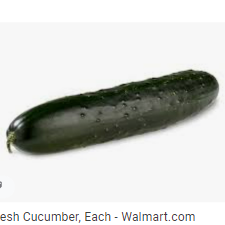cucumber: (14, 68, 212, 141)
